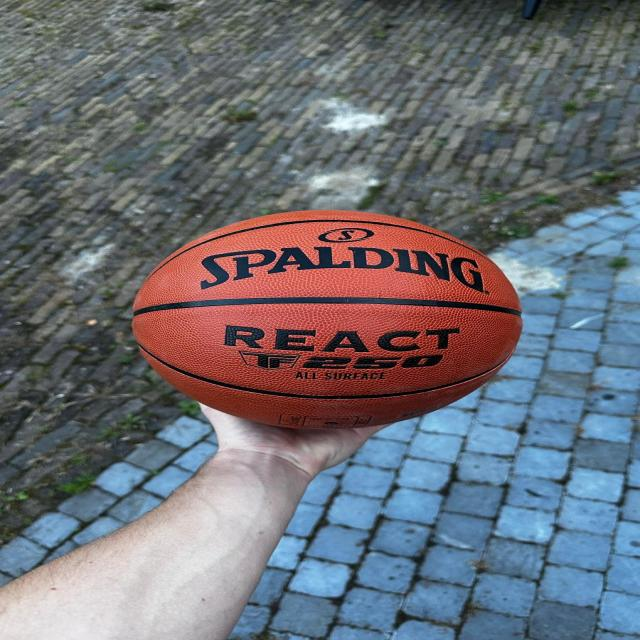Basketball: (131, 209, 518, 430)
